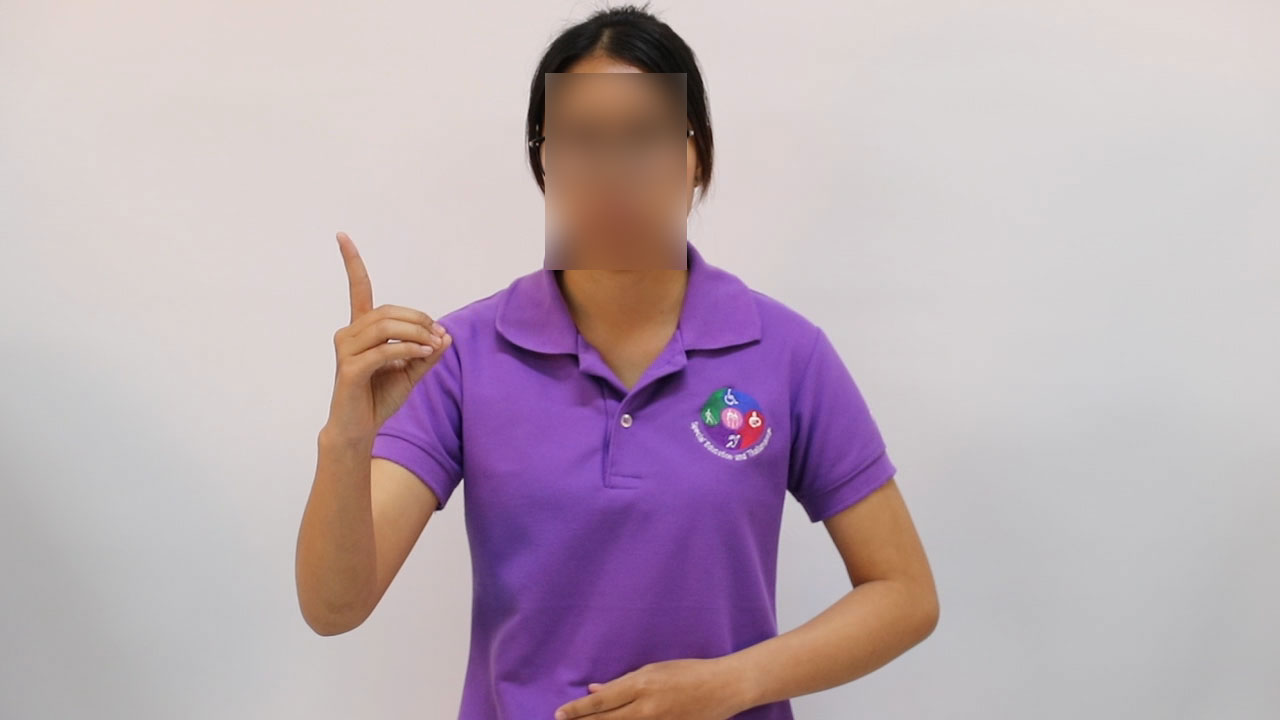dor: (307, 225, 458, 442)
